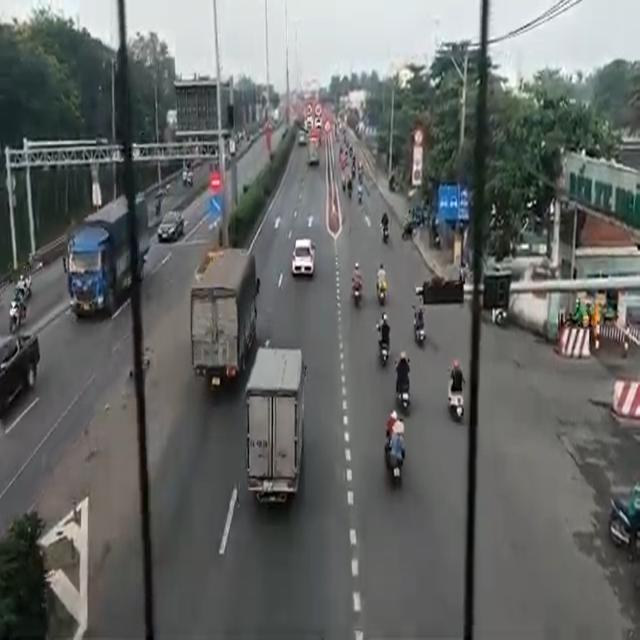car: (0, 334, 34, 406), (290, 238, 312, 273), (158, 212, 183, 240)
motor: (386, 414, 402, 492), (396, 354, 413, 411), (448, 364, 463, 422), (378, 315, 388, 369), (414, 303, 426, 344), (377, 261, 387, 302), (380, 206, 389, 247), (352, 259, 360, 302)
truck: (67, 198, 145, 322), (250, 347, 302, 502), (192, 250, 246, 384)
